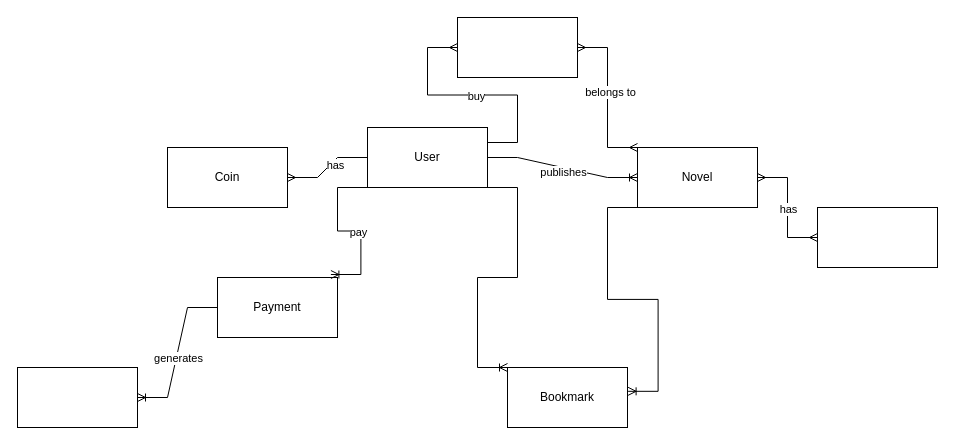
Some shapes in this 955 by 445 pixel diagram are drawn without their labels. Each missing label, with the centre of its shape:
Category: pixel 877 237
chapter_unlock: pixel 517 47
revenue: pixel 77 397
